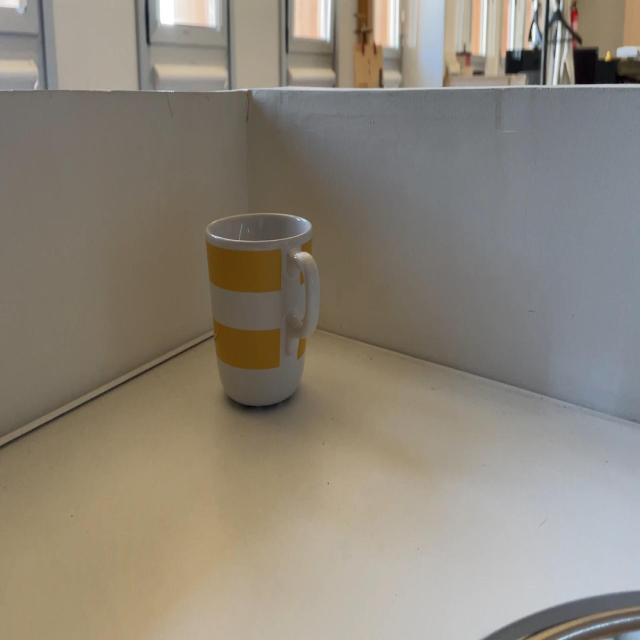cup: (202, 212, 324, 420)
